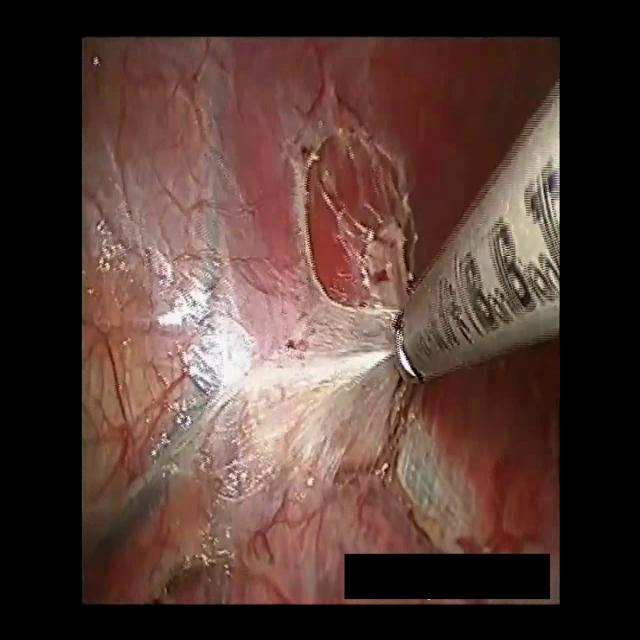surgical-area: (82, 36, 561, 604)
surgical-tool: (392, 74, 560, 382)
